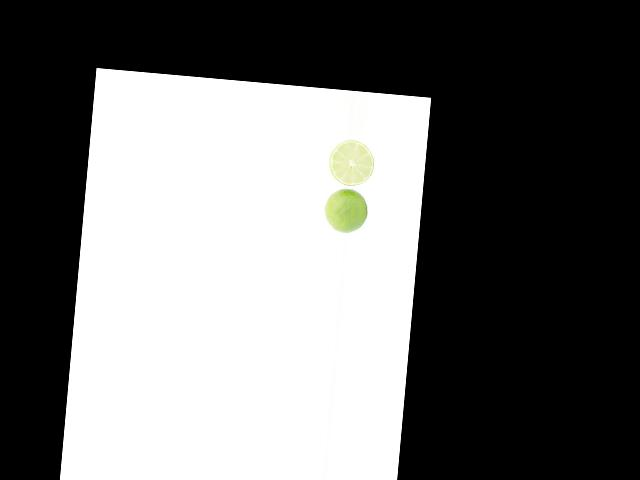lemon: (324, 187, 371, 234)
